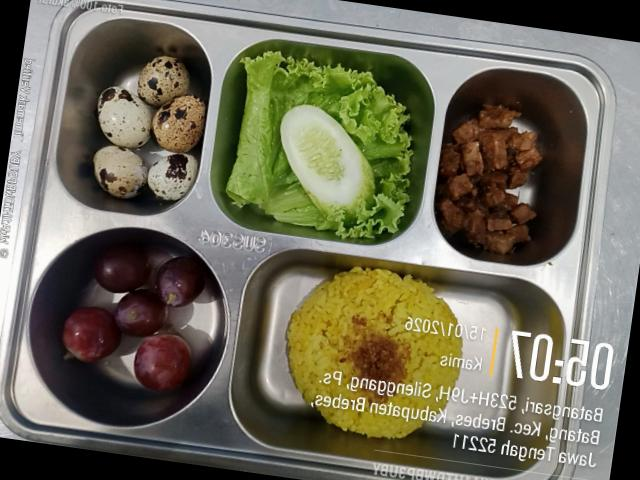buah: (61, 244, 206, 383)
nasi: (286, 268, 461, 438)
sayur: (225, 51, 412, 238)
telur: (92, 55, 204, 198)
tempe: (435, 105, 541, 254)
